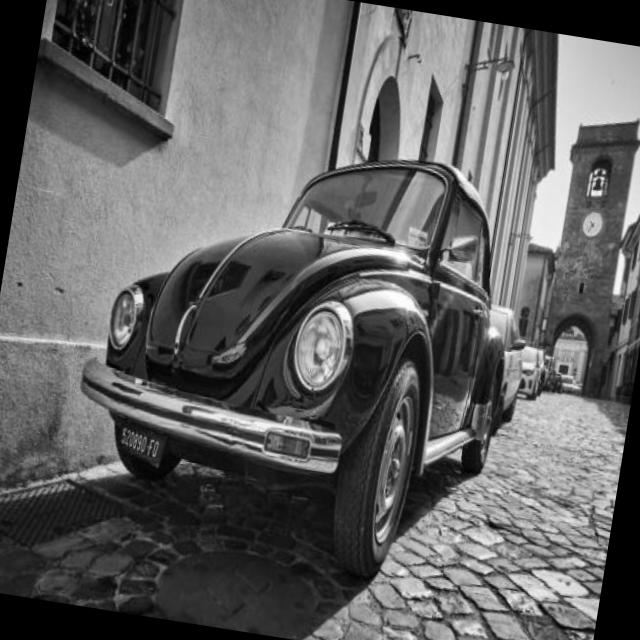car: (85, 110, 539, 554)
